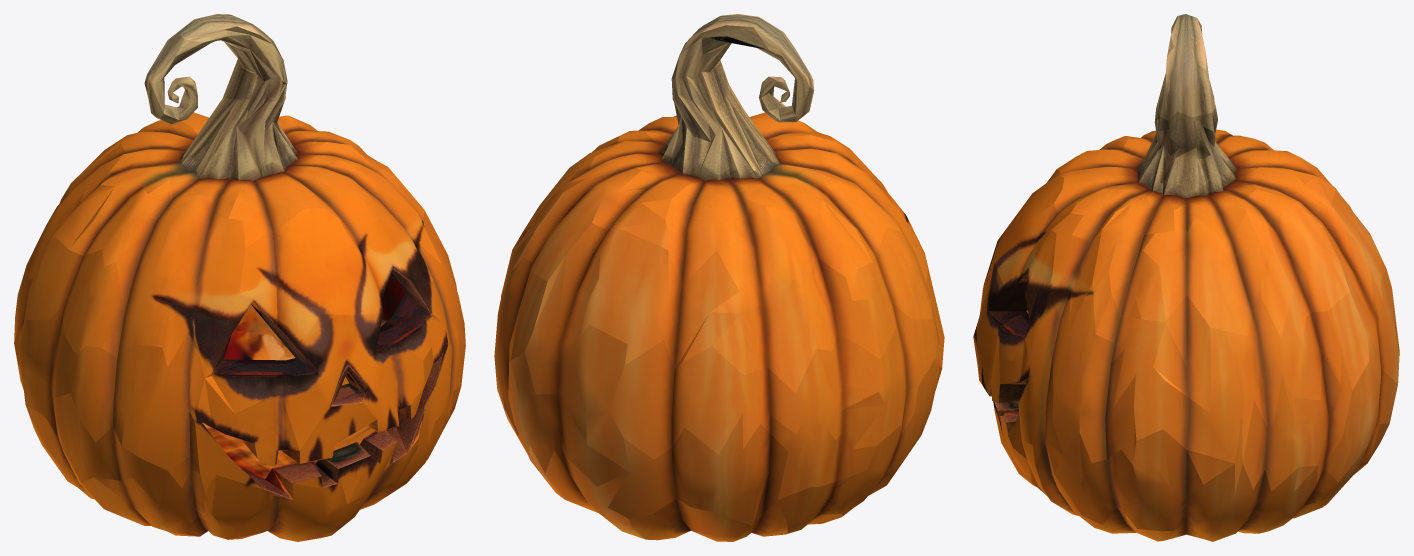
3 renders of one model, left to right at view 1: azimuth 30°, elevation 25°; view 2: azimuth 150°, elevation 25°; view 3: azimuth 270°, elevation 25°, orthographic. The views are drawn at different scales.
Size of the model in its own units: 1.59 by 1.89 by 1.59.
1 material, 1 textured.
